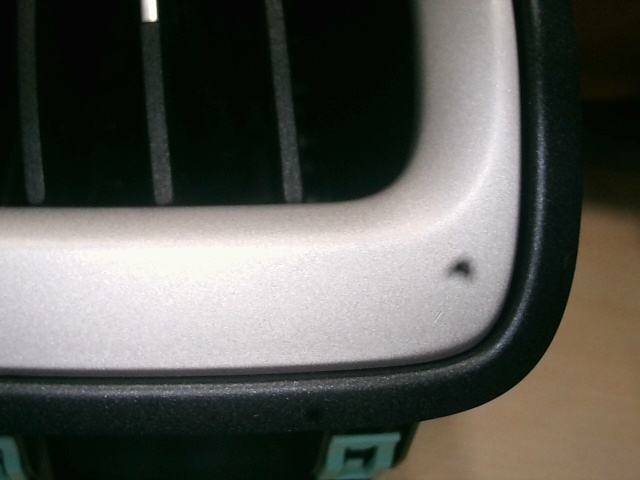NG: (428, 307, 448, 327)
